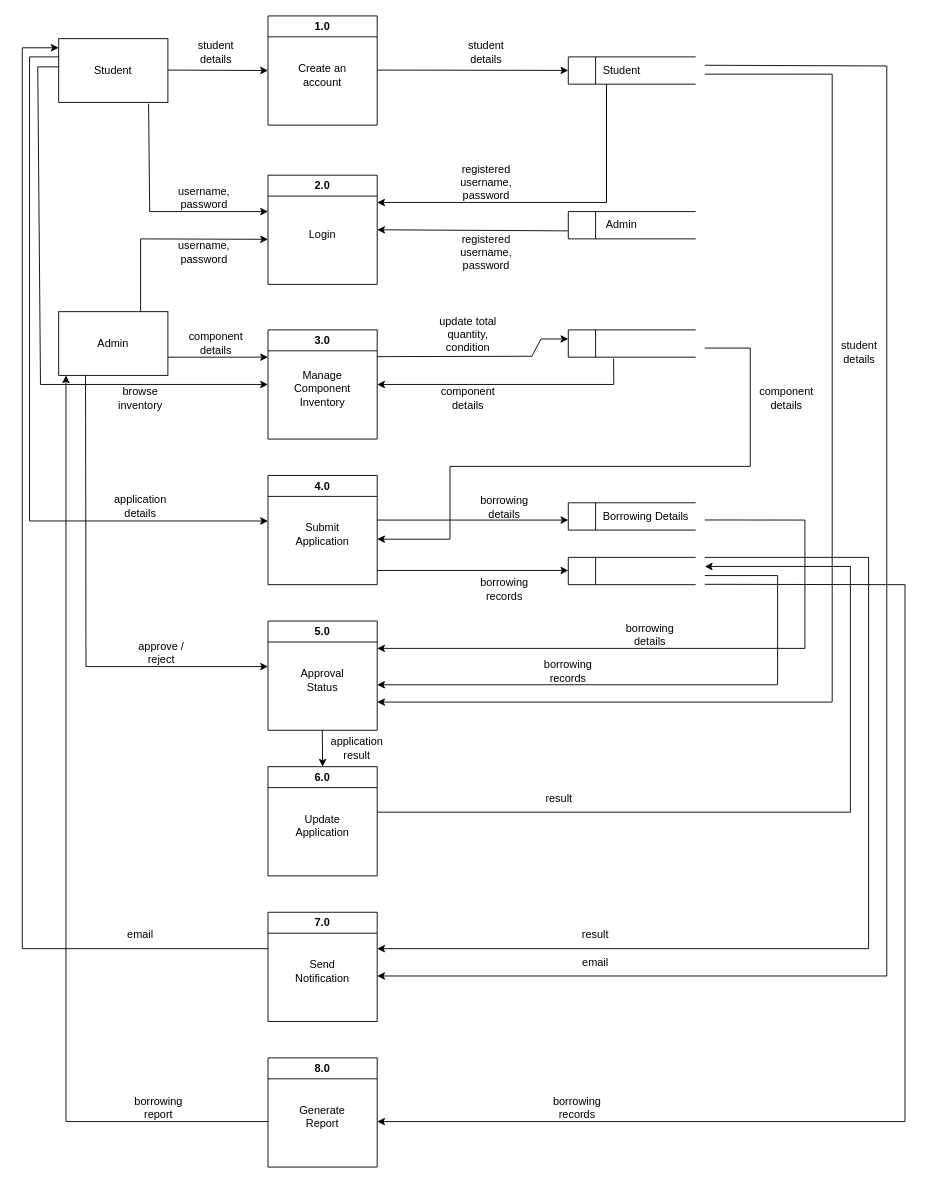
The diagram is 928 pixels wide and 1183 high, and some of its shapes have lost their labels. The box of each missing label's shape, as (x1, y1, x2, y2) in pixels:
Borrowing Record: (567, 556, 696, 585)
Component: (567, 329, 696, 357)
